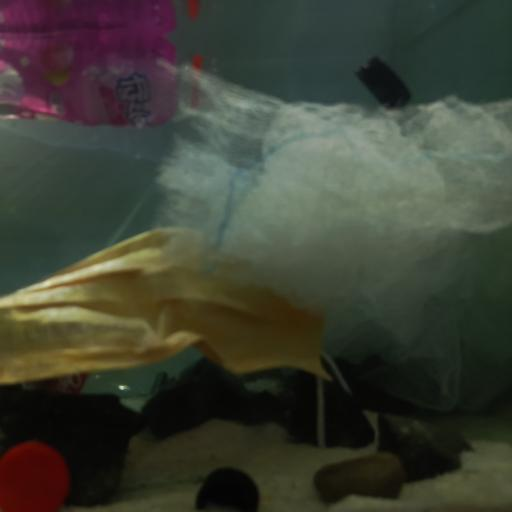bottle_cap: (2, 442, 67, 512), (357, 55, 413, 106), (195, 468, 257, 512)
mask: (0, 223, 335, 402)
net: (153, 54, 512, 408)
plastic_bottle: (0, 26, 218, 129), (0, 356, 167, 406)
